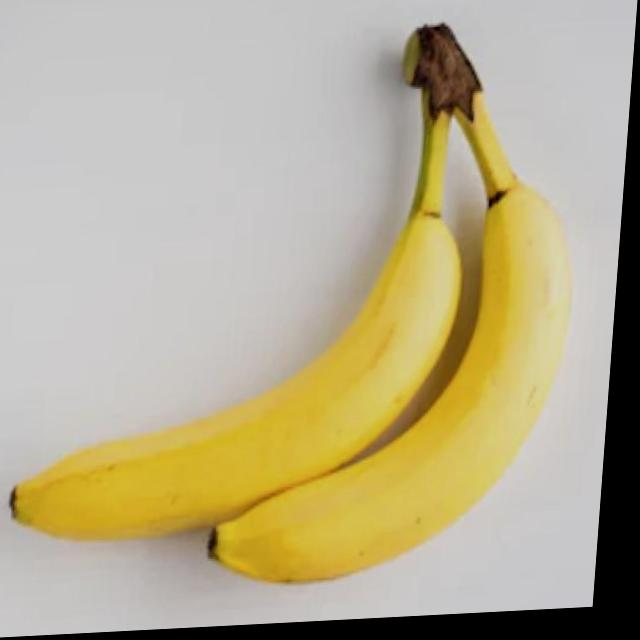Banana: (7, 22, 596, 605)
